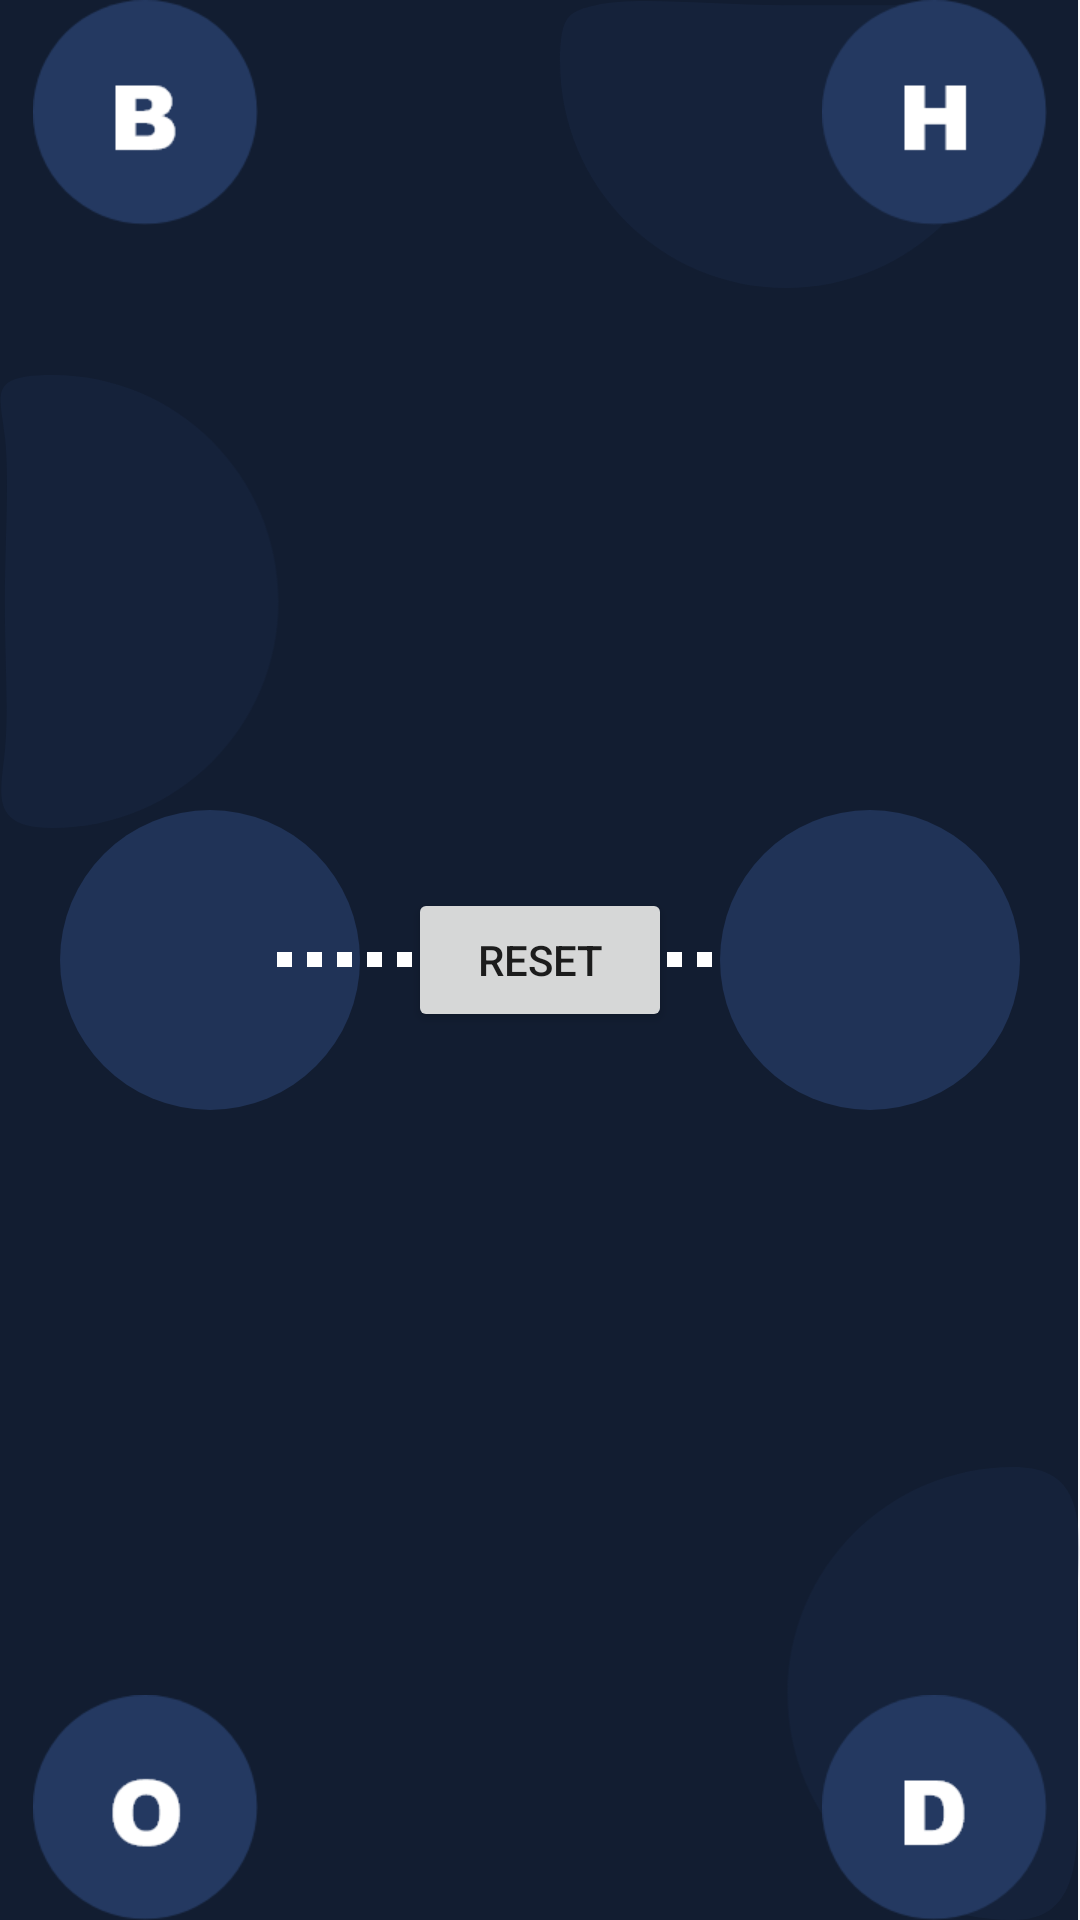

Icon click points for this 1080*1920 phone screenshot, format (x=x, y=y):
binary circle: (x=145, y=112)
decimal circle: (x=934, y=1806)
hexa circle: (x=934, y=112)
octal circle: (x=145, y=1807)
